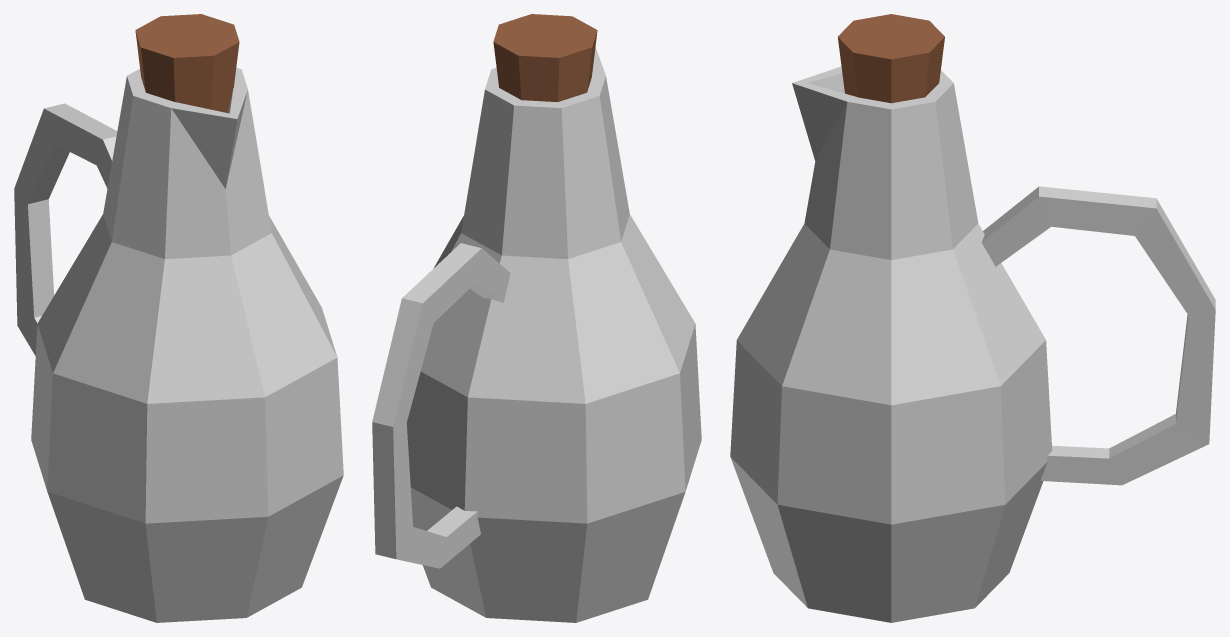
Rendered from Oil.fbx.
The picture shows the model from 3 angles, left to right: view 1: azimuth 30°, elevation 25°; view 2: azimuth 150°, elevation 25°; view 3: azimuth 270°, elevation 25°; orthographic projection.
Parts seen in each view (by area): view 1: Oil; view 2: Oil; view 3: Oil.
Boxes of the visible parts, x1,y1,x2,y2 form: Oil: (14, 14, 343, 622); Oil: (372, 14, 701, 622); Oil: (730, 14, 1215, 622).
Bounding box in the file's own units: 21.84 × 40.1 × 32.89.
